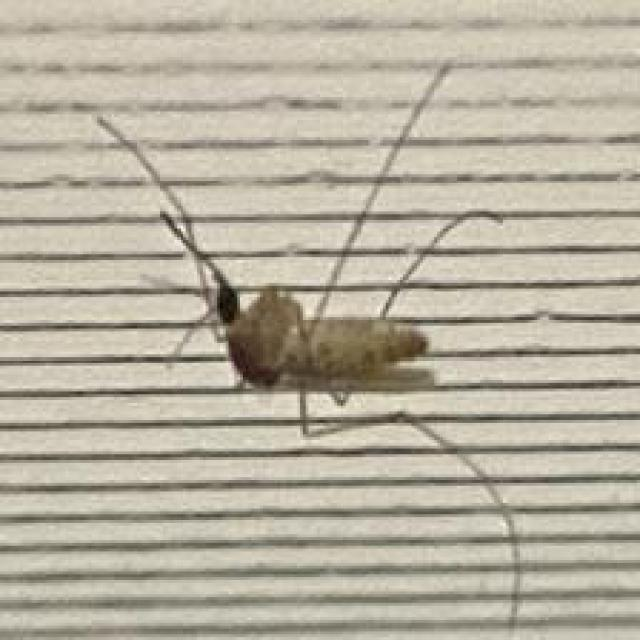Culex: (94, 107, 506, 439)
